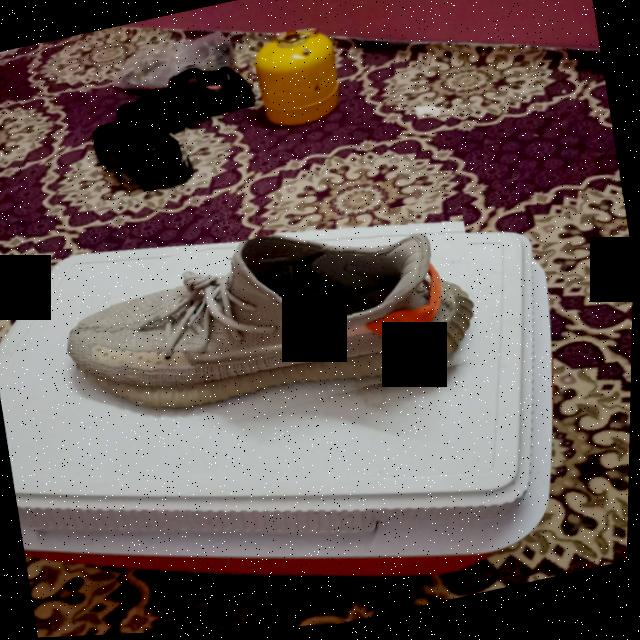shoe: (52, 196, 491, 459), (106, 52, 257, 138), (90, 105, 197, 202)
